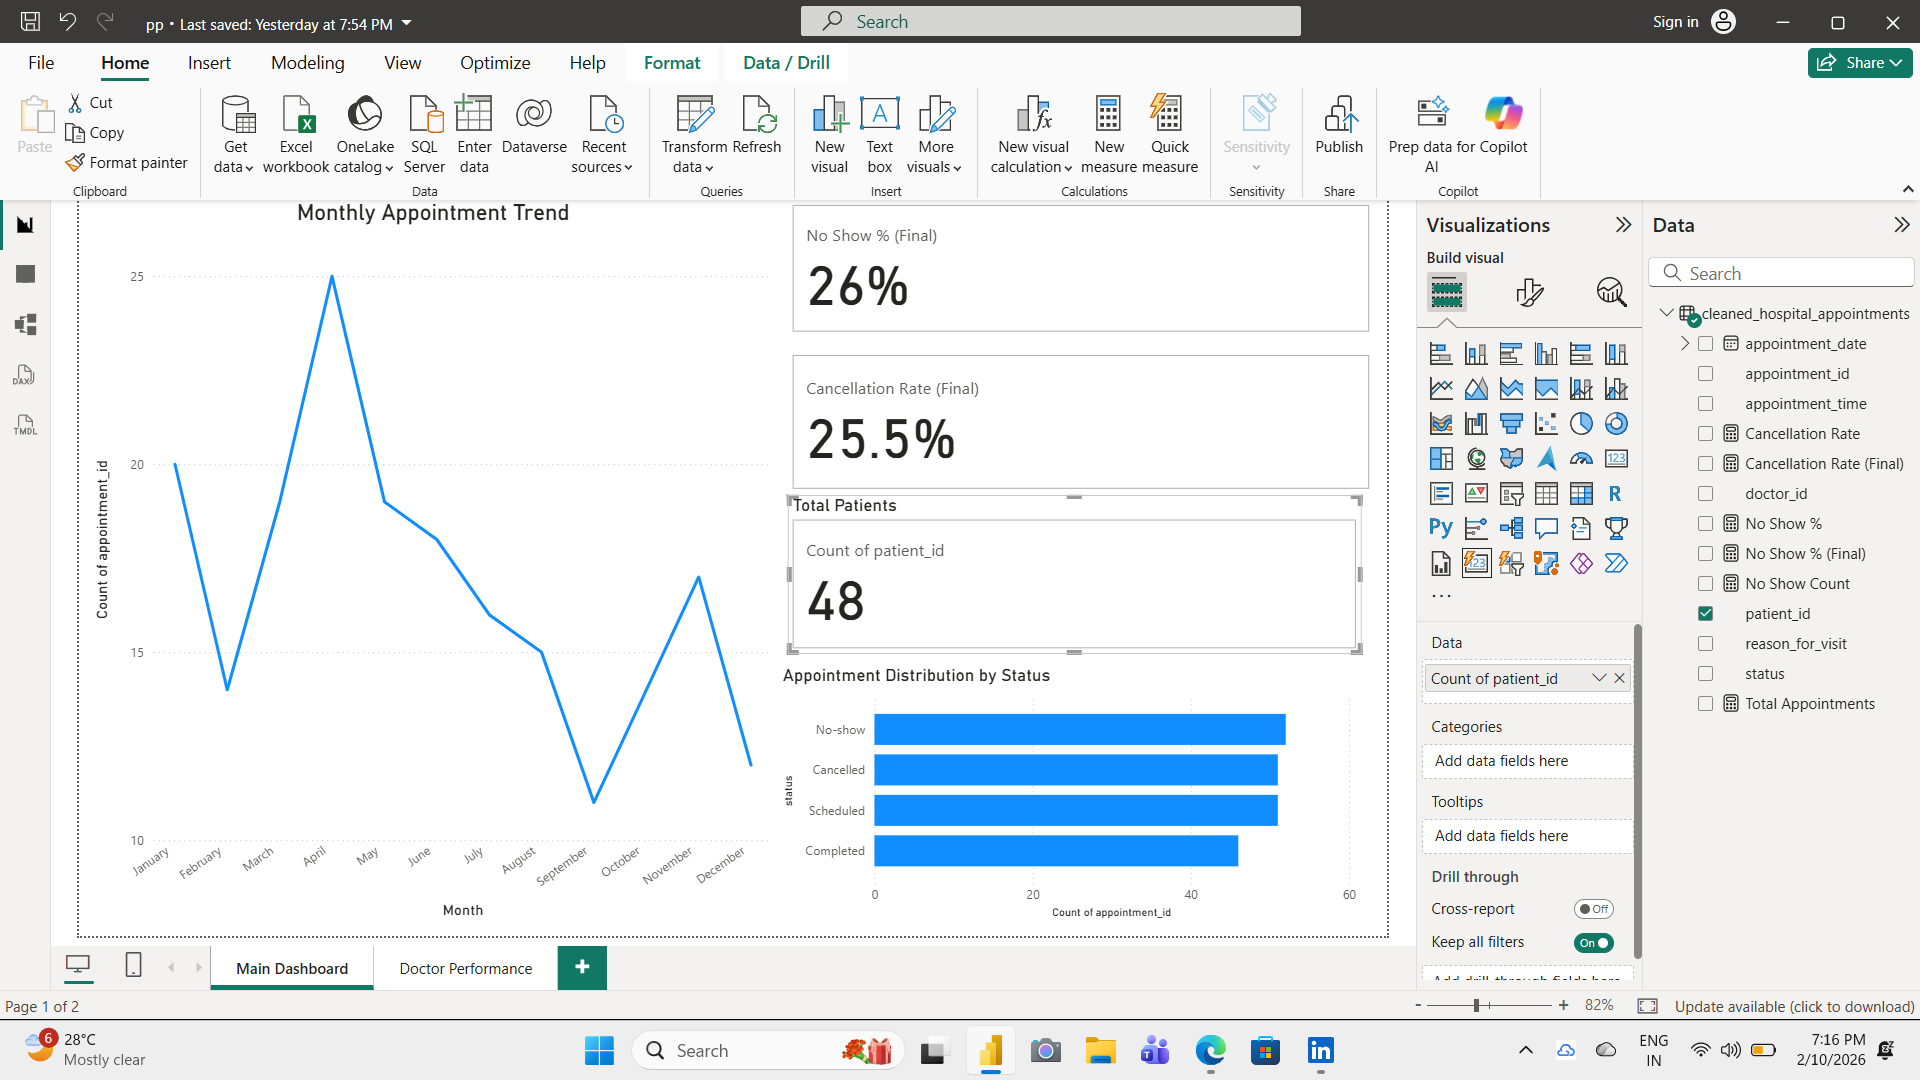

What the dashboard file says about the page in this screenshot:
{"tool":"powerbi","page":{"name":"Main Dashboard","canvas":[1280,720],"ordinal":0},"visuals":[{"type":"lineChart","title":"Monthly Appointment Trend","fields":{"Category":["cleaned_hospital_appointments.appointment_date.Variation.Date Hierarchy.Month"],"Y":["CountNonNull(cleaned_hospital_appointments.appointment_id)"]},"box":[10,0,673.4,708.3],"z":0},{"type":"cardVisual","title":"Total Patients","fields":{"Data":["Count(cleaned_hospital_appointments.patient_id)"]},"box":[693.3,288.6,561.3,155.3],"z":1000},{"type":"clusteredBarChart","title":"Appointment Distribution by Status","fields":{"Category":["cleaned_hospital_appointments.status"],"Y":["CountNonNull(cleaned_hospital_appointments.appointment_id)"]},"box":[683.6,454.9,571.1,253.1],"z":2000},{"type":"cardVisual","fields":{"Data":["cleaned_hospital_appointments.No Show % (Final)"]},"box":[693.3,0,574.7,134.5],"z":3000},{"type":"cardVisual","fields":{"Data":["cleaned_hospital_appointments.Cancellation Rate (Final)"]},"box":[693.3,146.7,574.7,141.8],"z":4000}]}

Visuals, with their boxes on the page's 1280x720 design canvas (x1, y1, x2, y2). These are canvas units, not pixel positions in the 1920x1080 screenshot, which may show the page scaled, cropped or inside an application window:
"Monthly Appointment Trend" lineChart: x1=10, y1=0, x2=683, y2=708
"Total Patients" cardVisual: x1=693, y1=289, x2=1255, y2=444
"Appointment Distribution by Status" clusteredBarChart: x1=684, y1=455, x2=1255, y2=708
cardVisual - cleaned_hospital_appointments.No Show % (Final): x1=693, y1=0, x2=1268, y2=134
cardVisual - cleaned_hospital_appointments.Cancellation Rate (Final): x1=693, y1=147, x2=1268, y2=288
